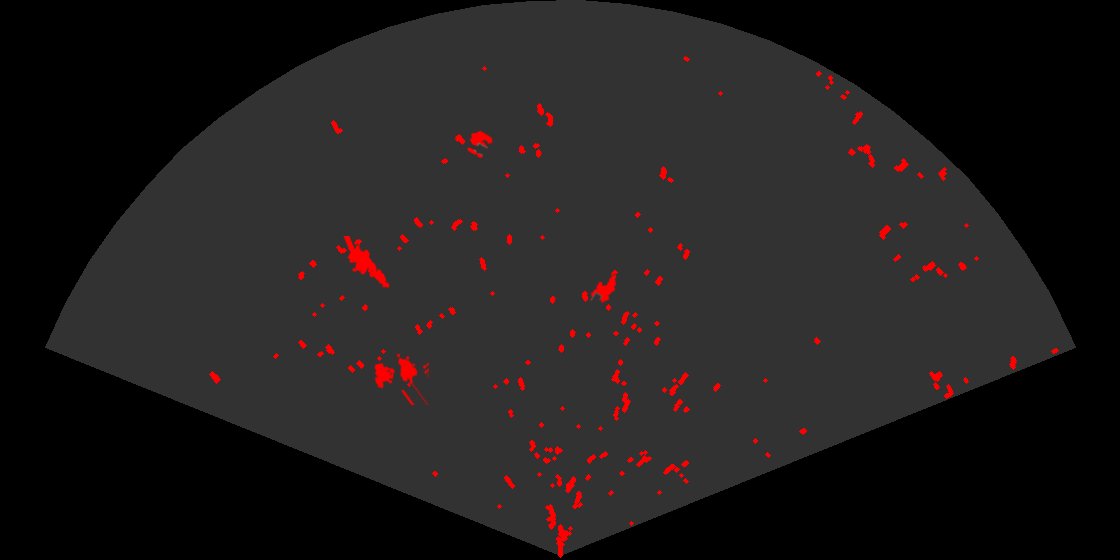AUV: (588, 273, 618, 305)
ball: (466, 129, 495, 160)
cage: (373, 352, 429, 405)
frogman: (342, 236, 391, 290)
